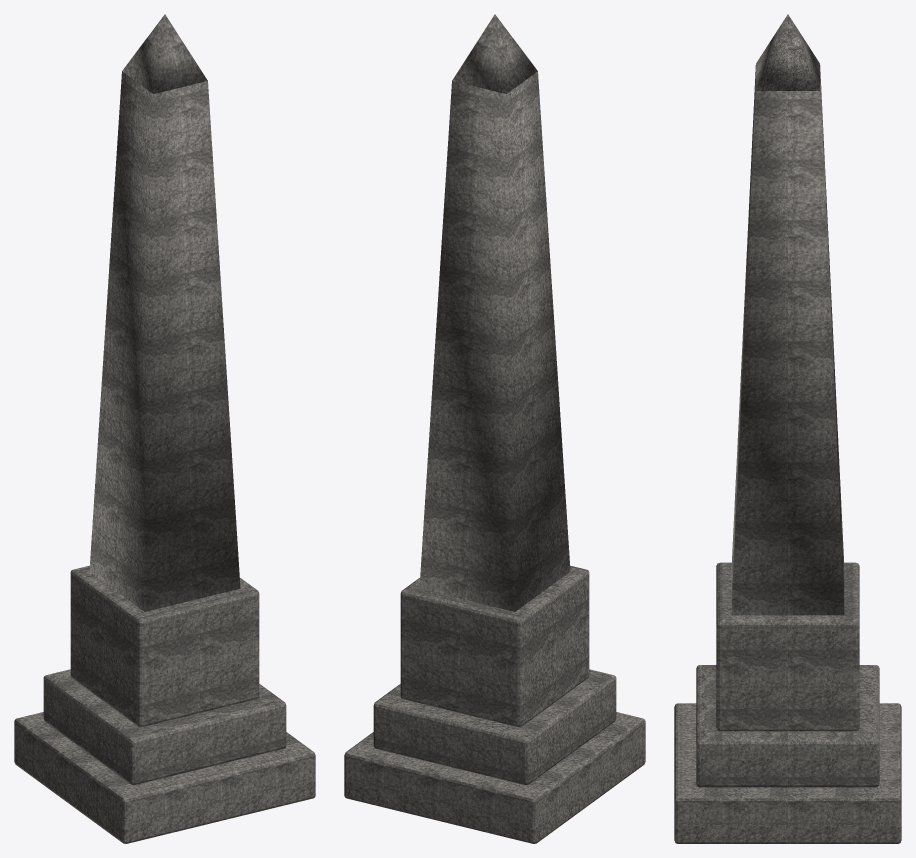
The model's file is obelisk.glb.
3 renders of one model, left to right at view 1: azimuth 30°, elevation 25°; view 2: azimuth 150°, elevation 25°; view 3: azimuth 270°, elevation 25°, orthographic. The views are drawn at different scales.
Visible parts, largest first — view 1: obelisk; view 2: obelisk; view 3: obelisk.
Part boxes in pixels (left/top/right/bottom): obelisk: left=14, top=14, right=315, bottom=843; obelisk: left=344, top=14, right=645, bottom=843; obelisk: left=674, top=14, right=901, bottom=843.
Size of the model in its own units: 1.3 by 4.95 by 1.3.
Materials: 1 (1 with a texture image).
